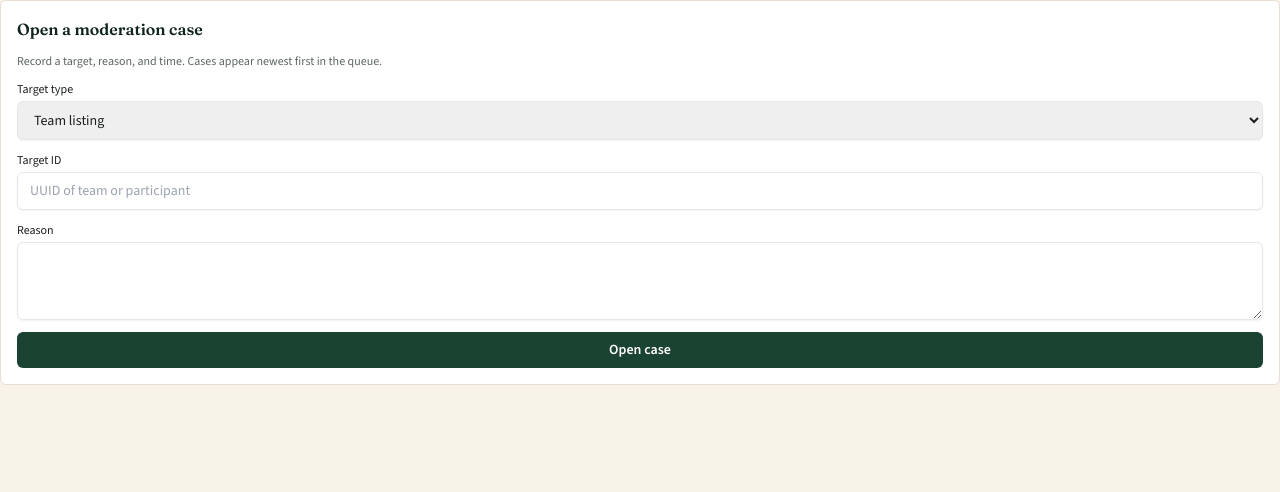
Test: OpenModerationCaseForm (US-026 / #241) › requires flaggedUrl for url targets and preserves the draft
Select "Suspicious URL" in the dropdown with test id "moderation-target-type" at (640, 120), box [17,101,1263,140]
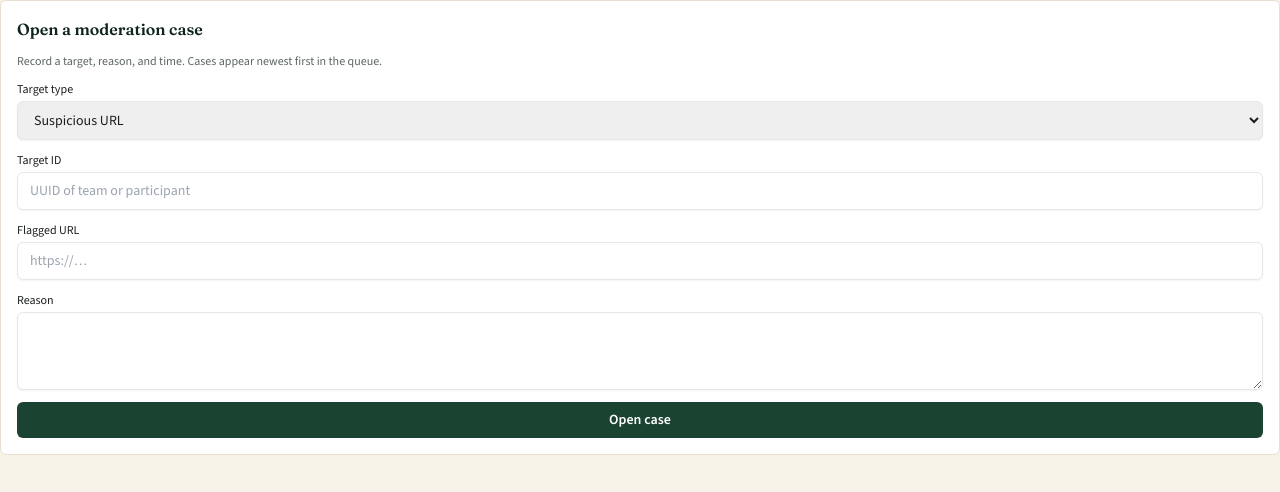
Type "cccccccc-cccc-4ccc-8ccc-cccccccccccc" into the field with test id "moderation-target-id" at (640, 191), box [17,172,1263,210]
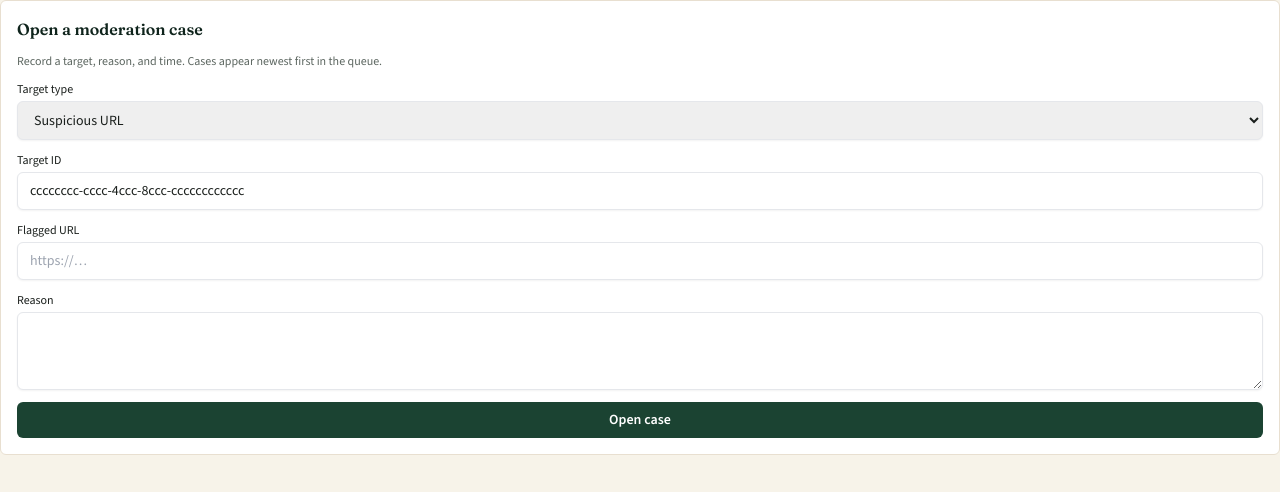
Type "Phishing link" into the text box with test id "moderation-reason" at (640, 351), box [17,312,1263,390]
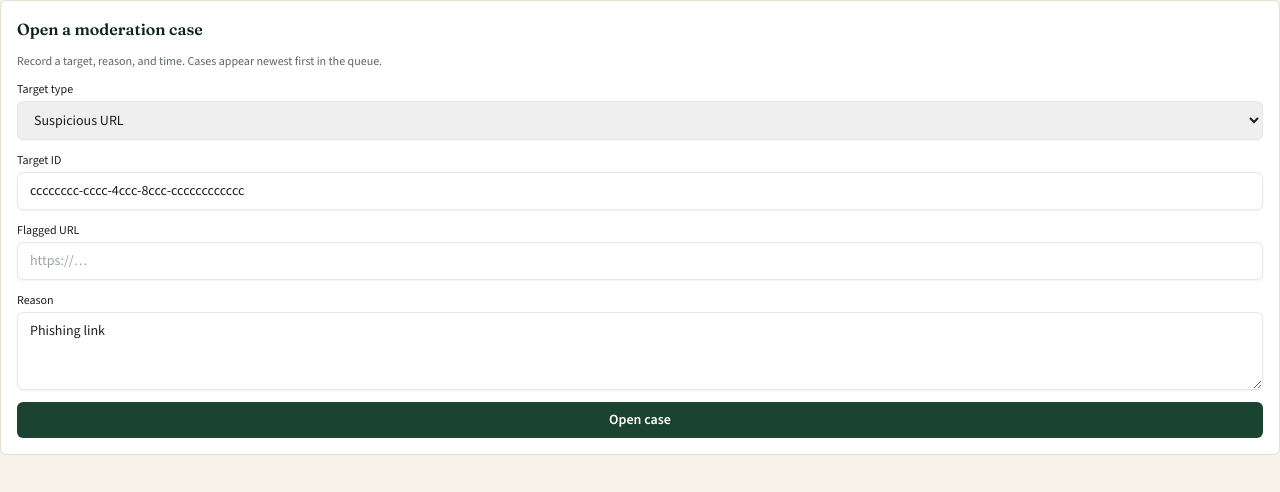
Type "http://bad.example" into the field with test id "moderation-flagged-url" at (640, 261), box [17,242,1263,280]
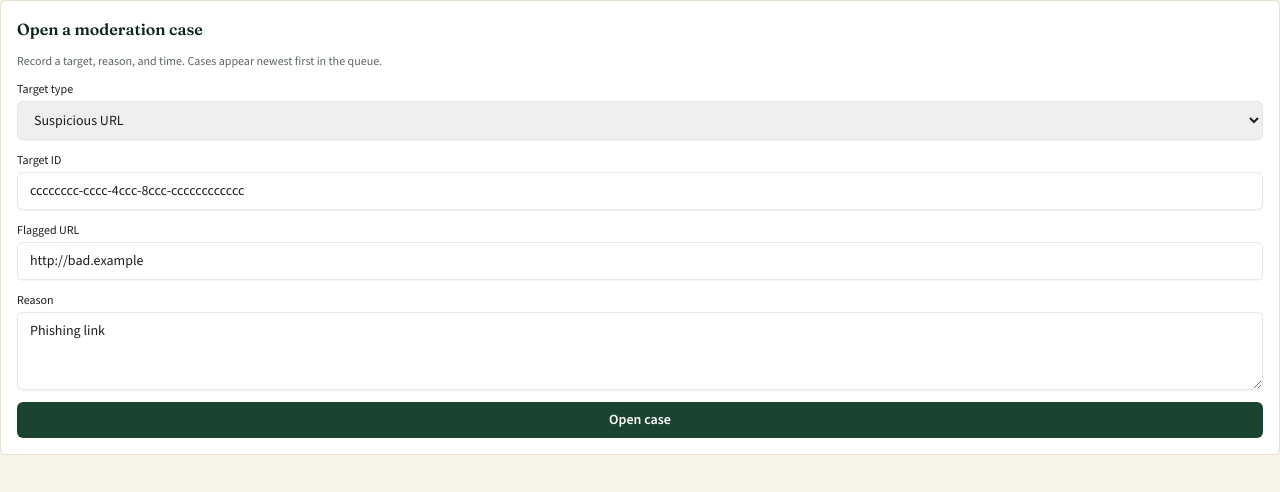
Click the button with test id "open-case-submit" at (640, 420), box [17,402,1263,438]
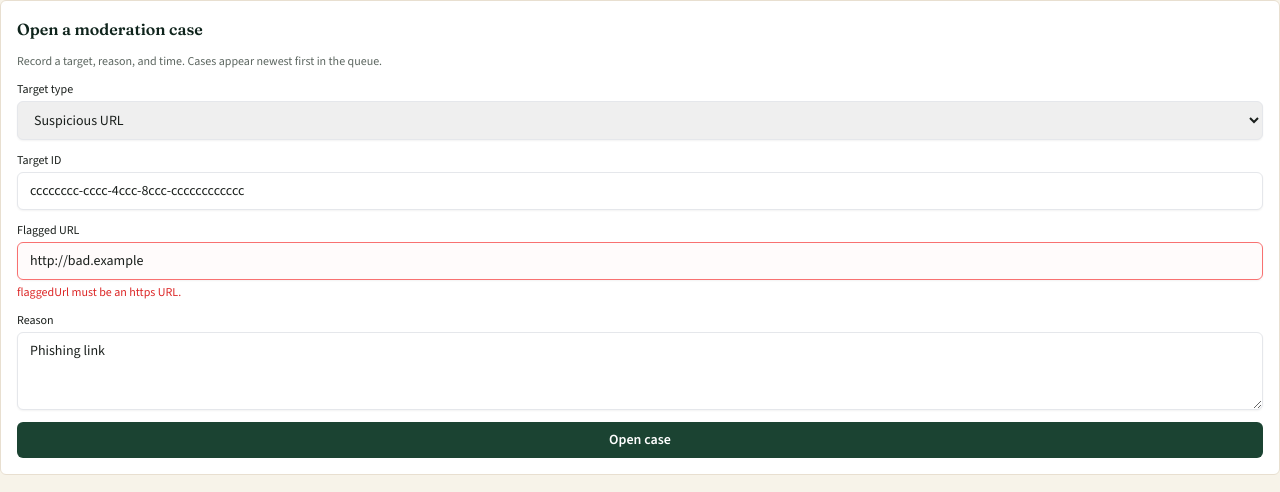
expect the text "flaggedUrl must be an https URL." is shown: met, box [17,284,181,300]
